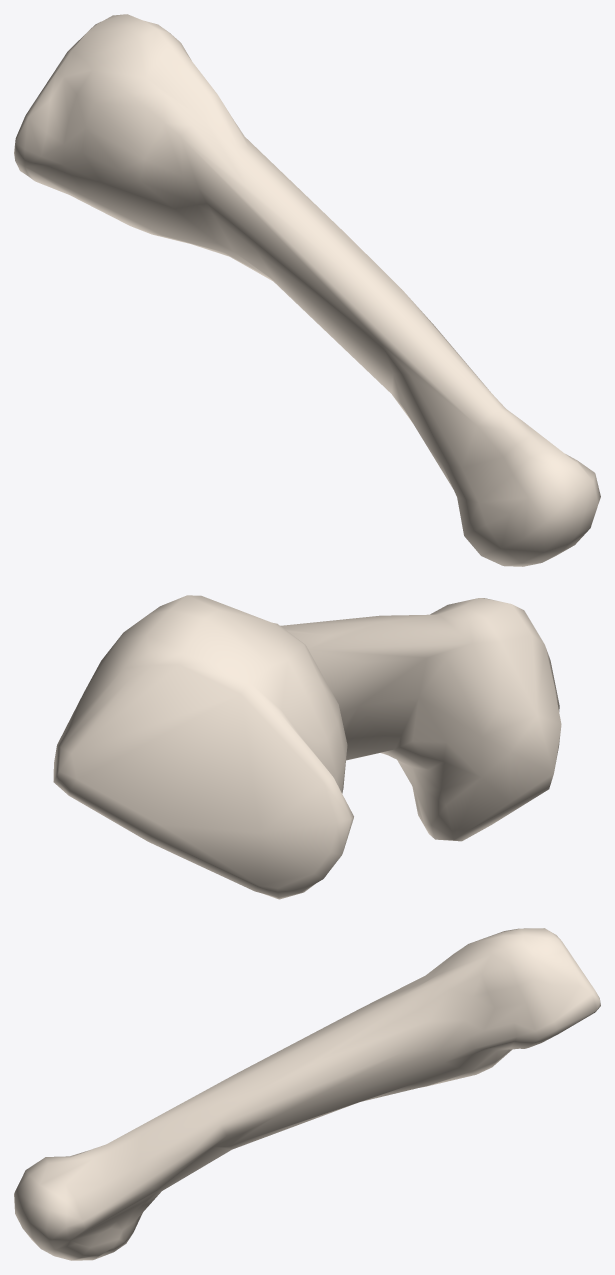
Rendered from left_metatarsal_4.glb.
3 renders of one model, top to bottom at view 1: azimuth 30°, elevation 25°; view 2: azimuth 150°, elevation 25°; view 3: azimuth 270°, elevation 25°, orthographic. The views are drawn at different scales.
Visible parts, largest first — view 1: Fourth metatarsal bone.r; view 2: Fourth metatarsal bone.r; view 3: Fourth metatarsal bone.r.
Boxes of the visible parts, x1,y1,x2,y2 form: Fourth metatarsal bone.r: (14, 14, 600, 566); Fourth metatarsal bone.r: (53, 595, 561, 899); Fourth metatarsal bone.r: (14, 928, 600, 1260).
Size of the model in its own units: 0.0293 by 0.0363 by 0.0676.
